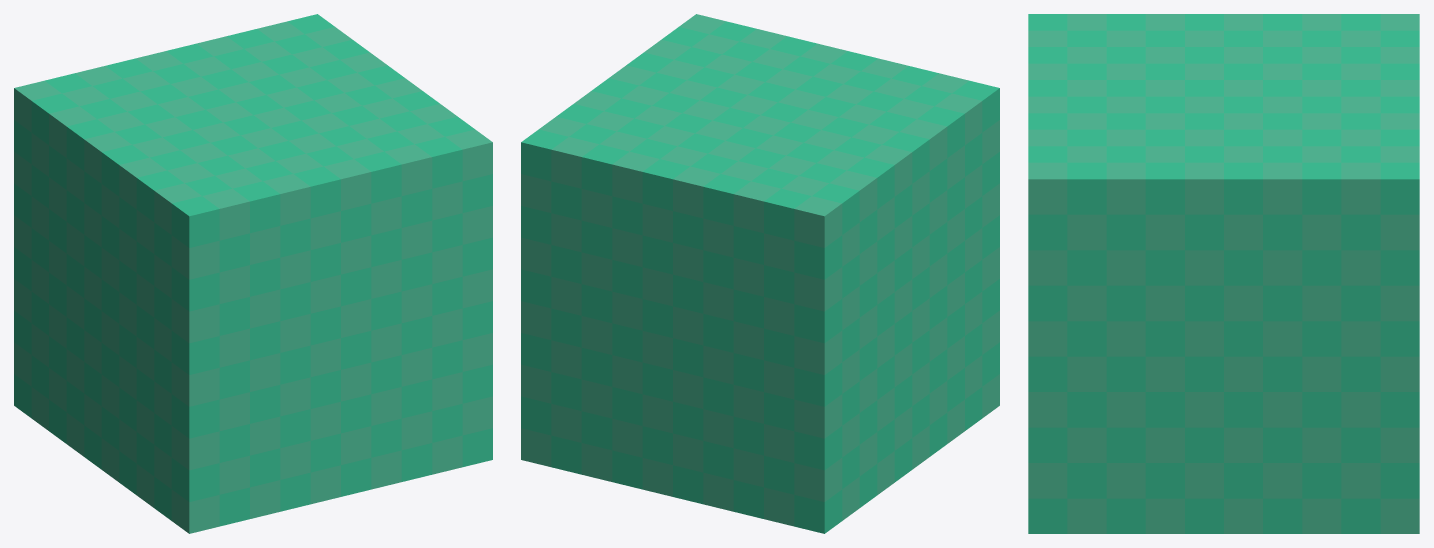
File: Snake_Body.obj
The picture shows the model from 3 angles, left to right: view 1: azimuth 30°, elevation 25°; view 2: azimuth 150°, elevation 25°; view 3: azimuth 270°, elevation 25°; orthographic projection. The views are drawn at different scales.
Size of the model in its own units: 1 by 1 by 1.
Materials: 1 (1 with a texture image).
